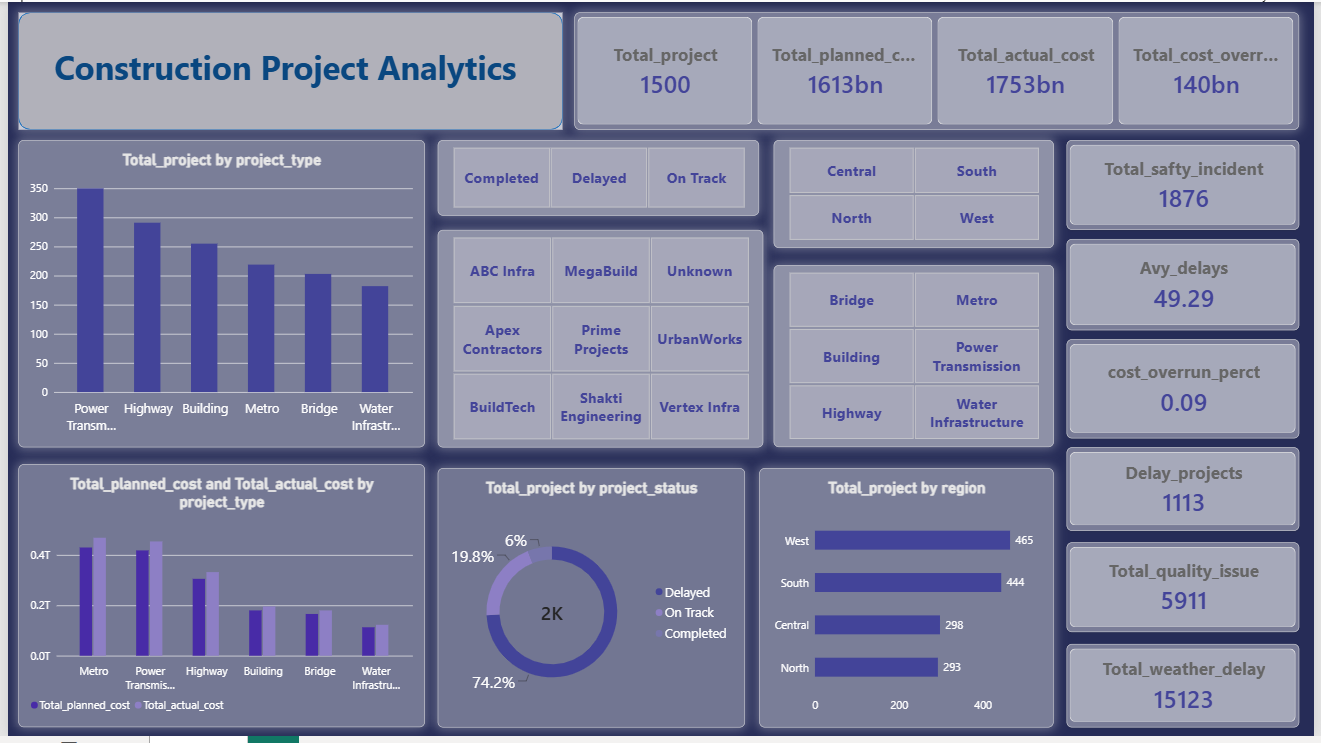

Layout of this report page (visuals, bound fields, positions):
{"tool":"powerbi","page":{"name":"Page 1","canvas":[1920,1080],"ordinal":0},"visuals":[{"type":"cardVisual","fields":{"Data":["Construction_data.Total_project","Construction_data.Total_planned_cost","Construction_data.Total_actual_cost","Construction_data.Total_cost_overrun"]},"box":[833.7,15.3,1065.6,172.5],"z":0},{"type":"columnChart","fields":{"Category":["Construction_data.project_type"],"Y":["Construction_data.Total_project"]},"box":[15.3,203.1,597.9,452.3],"z":1000},{"type":"clusteredColumnChart","fields":{"Category":["Construction_data.project_type"],"Y":["Construction_data.Total_planned_cost","Construction_data.Total_actual_cost"]},"box":[15.3,680.4,597.9,387.1],"z":2000},{"type":"donutChart","fields":{"Category":["Construction_data.project_status"],"Y":["Construction_data.Total_project"]},"box":[632.4,686.1,452.3,381.4],"z":3000},{"type":"barChart","fields":{"Category":["Construction_data.region"],"Y":["Construction_data.Total_project"]},"box":[1105.8,686.1,433.1,381.4],"z":4000},{"type":"slicer","fields":{"Values":["Construction_data.region"]},"box":[1126.9,203.1,412,159.1],"z":5000},{"type":"slicer","fields":{"Values":["Construction_data.project_status"]},"box":[632.4,203.1,473.4,111.2],"z":6000},{"type":"slicer","fields":{"Values":["Construction_data.contractor"]},"box":[632.4,335.4,479.1,320.1],"z":7000},{"type":"slicer","fields":{"Values":["Construction_data.project_type"]},"box":[1126.9,387.1,412,268.3],"z":8000},{"type":"shape","box":[15.3,15.3,801.1,172.5],"z":10000},{"type":"textbox","box":[0,63.2,816.4,124.6],"z":13000},{"type":"cardVisual","fields":{"Data":["Construction_data.Avy_delays"]},"box":[1558.1,348.8,341.1,134.2],"z":13001},{"type":"cardVisual","fields":{"Data":["Construction_data.Delay_projects"]},"box":[1558.1,655.4,341.1,122.7],"z":13002},{"type":"cardVisual","fields":{"Data":["Construction_data.cost_overrun_perct"]},"box":[1558.1,496.4,341.1,145.7],"z":13003},{"type":"cardVisual","fields":{"Data":["Construction_data.Total_safty_incident"]},"box":[1558.1,203.1,341.1,132.2],"z":13004},{"type":"cardVisual","fields":{"Data":["Construction_data.Total_quality_issue"]},"box":[1558.1,795.3,341.1,132.2],"z":13005},{"type":"cardVisual","fields":{"Data":["Construction_data.Total_weather_delay"]},"box":[1558.1,944.8,341.1,122.7],"z":13006}]}

Visuals, with their boxes in screenshot pixels (x1, y1, x2, y2), scaled from the page's 1920x1080 canvas onto the 1321x743 screenshot:
cardVisual - Construction_data.Total_project x Construction_data.Total_planned_cost: [x1=574, y1=11, x2=1307, y2=129]
columnChart - Construction_data.project_type x Construction_data.Total_project: [x1=11, y1=140, x2=422, y2=451]
clusteredColumnChart - Construction_data.project_type x Construction_data.Total_planned_cost: [x1=11, y1=468, x2=422, y2=734]
donutChart - Construction_data.project_status x Construction_data.Total_project: [x1=435, y1=472, x2=746, y2=734]
barChart - Construction_data.region x Construction_data.Total_project: [x1=761, y1=472, x2=1059, y2=734]
slicer - Construction_data.region: [x1=775, y1=140, x2=1059, y2=249]
slicer - Construction_data.project_status: [x1=435, y1=140, x2=761, y2=216]
slicer - Construction_data.contractor: [x1=435, y1=231, x2=765, y2=451]
slicer - Construction_data.project_type: [x1=775, y1=266, x2=1059, y2=451]
shape: [x1=11, y1=11, x2=562, y2=129]
textbox: [x1=0, y1=43, x2=562, y2=129]
cardVisual - Construction_data.Avy_delays: [x1=1072, y1=240, x2=1307, y2=332]
cardVisual - Construction_data.Delay_projects: [x1=1072, y1=451, x2=1307, y2=535]
cardVisual - Construction_data.cost_overrun_perct: [x1=1072, y1=342, x2=1307, y2=442]
cardVisual - Construction_data.Total_safty_incident: [x1=1072, y1=140, x2=1307, y2=231]
cardVisual - Construction_data.Total_quality_issue: [x1=1072, y1=547, x2=1307, y2=638]
cardVisual - Construction_data.Total_weather_delay: [x1=1072, y1=650, x2=1307, y2=734]
